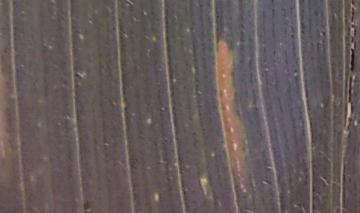tarspot: (348, 47, 356, 74), (346, 75, 353, 103), (81, 198, 90, 213), (345, 116, 353, 132), (349, 6, 356, 21), (74, 72, 83, 80), (349, 102, 354, 116), (73, 82, 80, 90), (349, 35, 355, 43), (350, 22, 355, 29), (349, 1, 355, 5)
